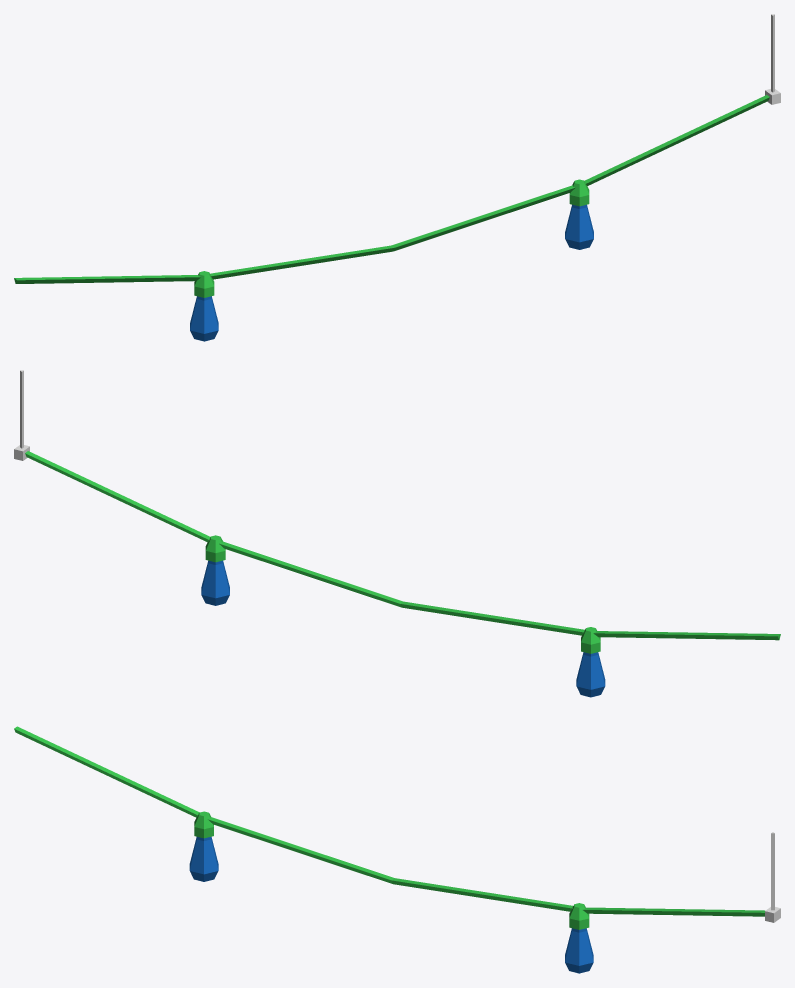
Rendered from SM_rope_lamps.fbx.
3 renders of one model, top to bottom at view 1: azimuth 30°, elevation 25°; view 2: azimuth 150°, elevation 25°; view 3: azimuth 330°, elevation 25°, orthographic.
Parts seen in each view (by area): view 1: light_3; view 2: light_3; view 3: light_3, rope_lamps.
Part boxes in pixels (x1,y1,x2,y2): light_3: [14, 95, 769, 341]; light_3: [25, 451, 780, 697]; light_3: [14, 726, 764, 973]; rope_lamps: [765, 832, 780, 922].
Bounding box in the file's own units: 202 × 47.55 × 6.61.
